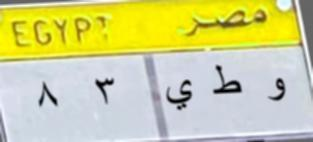3: (91, 75, 128, 109)
8: (35, 76, 63, 112)
Taa: (209, 58, 245, 103)
waw: (266, 70, 289, 107)
yaa: (164, 75, 198, 111)
